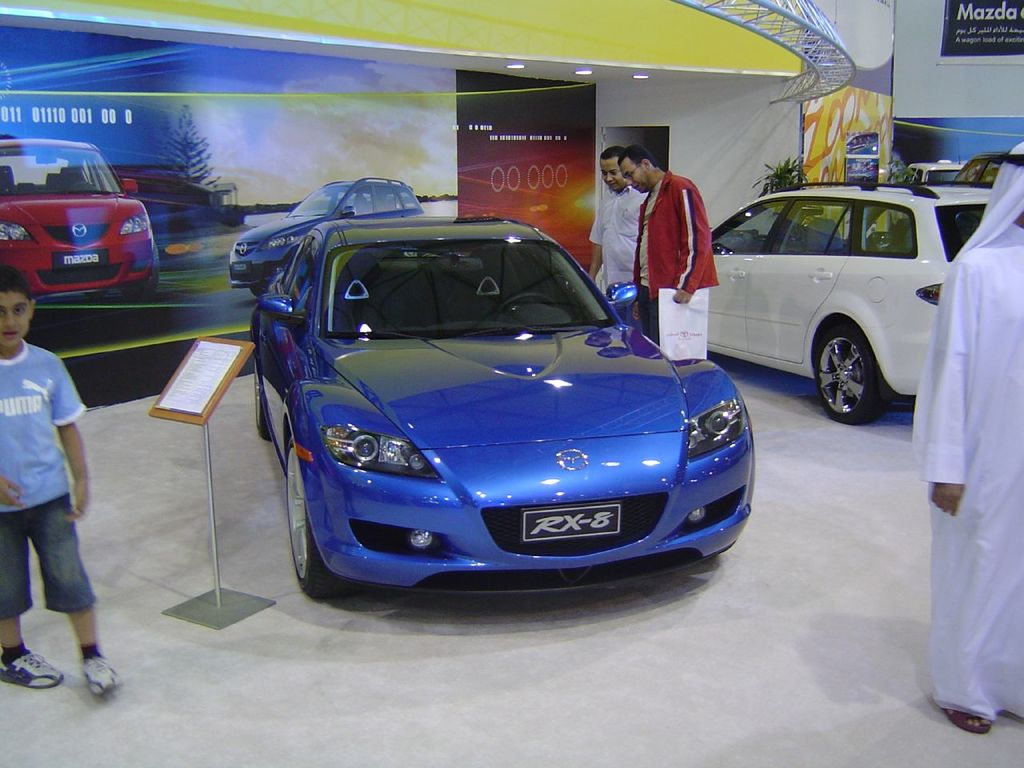Person: (0, 140, 1024, 733)
